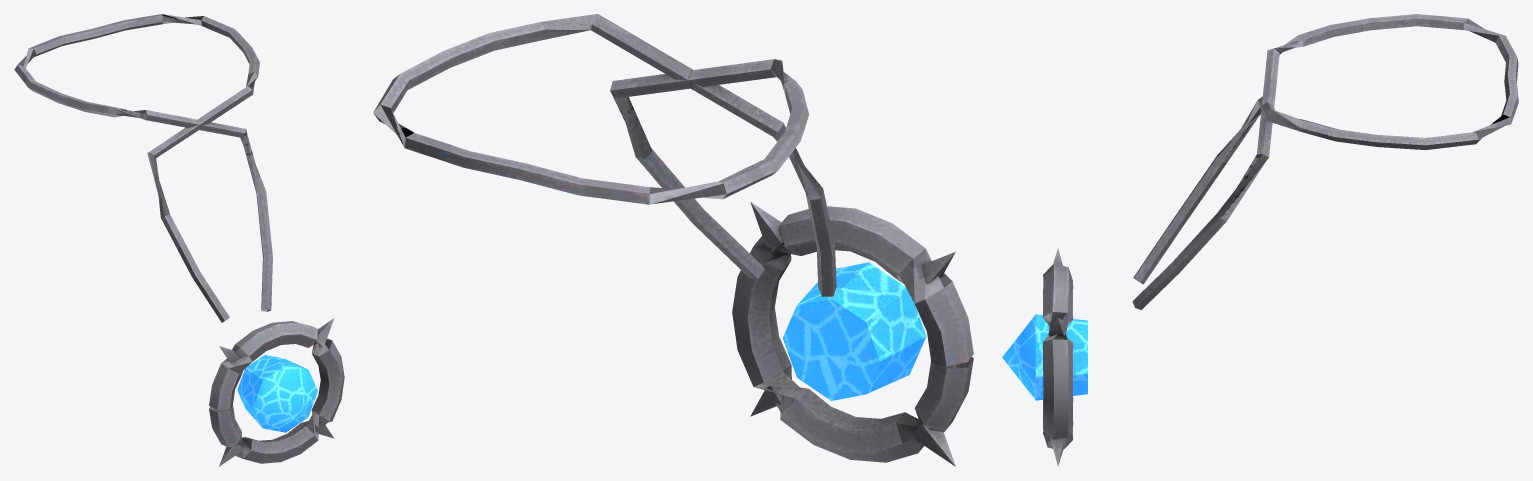
Rendered from Amuleto_do_Equilíbrio_nivel50.glb.
The picture shows the model from 3 angles, left to right: view 1: azimuth 30°, elevation 25°; view 2: azimuth 150°, elevation 25°; view 3: azimuth 270°, elevation 25°; orthographic projection. The views are drawn at different scales.
Parts seen in each view (by area): view 1: amuleto_do_equilibrio_nivel50; view 2: amuleto_do_equilibrio_nivel50; view 3: amuleto_do_equilibrio_nivel50.
Part boxes in pixels (<box>): amuleto_do_equilibrio_nivel50: <box>14,14,344,466</box>; amuleto_do_equilibrio_nivel50: <box>373,14,973,466</box>; amuleto_do_equilibrio_nivel50: <box>1002,14,1518,466</box>.
Bounding box in the file's own units: 0.1584 × 0.2123 × 0.2695.
Materials: 1 (1 with a texture image).
